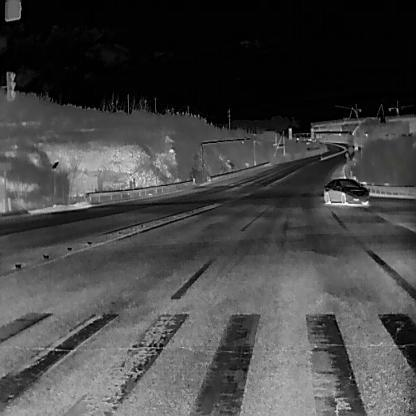car: (323, 177, 369, 205), (353, 142, 358, 151), (320, 137, 325, 143)
